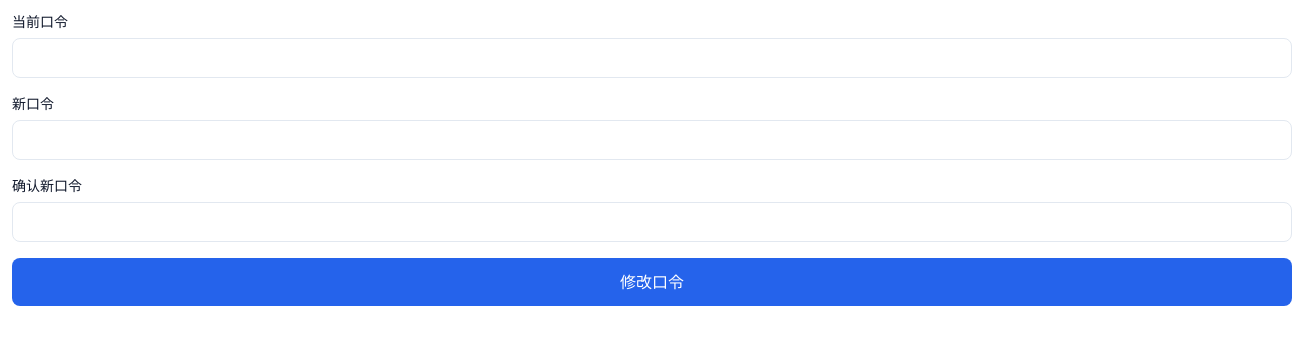
it: PasswordChangeForm validation › rejects a confirmation that does not match the new password
The width and height of the screenshot is (1304, 349).
Type "Local-Account-1" into the password field labelled "当前口令" at (652, 58), box [12,38,1292,78]
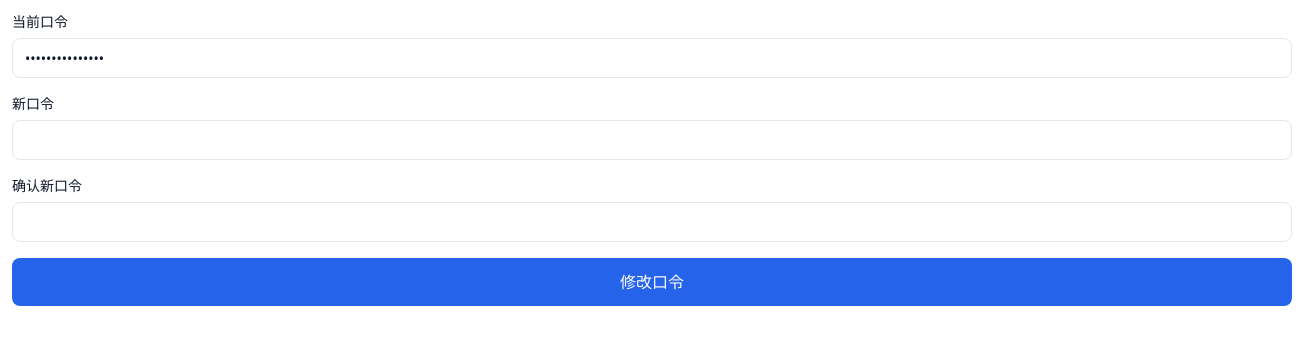
Type "Rotated-Account-2" into the password field labelled "新口令" at (652, 140), box [12,120,1292,160]
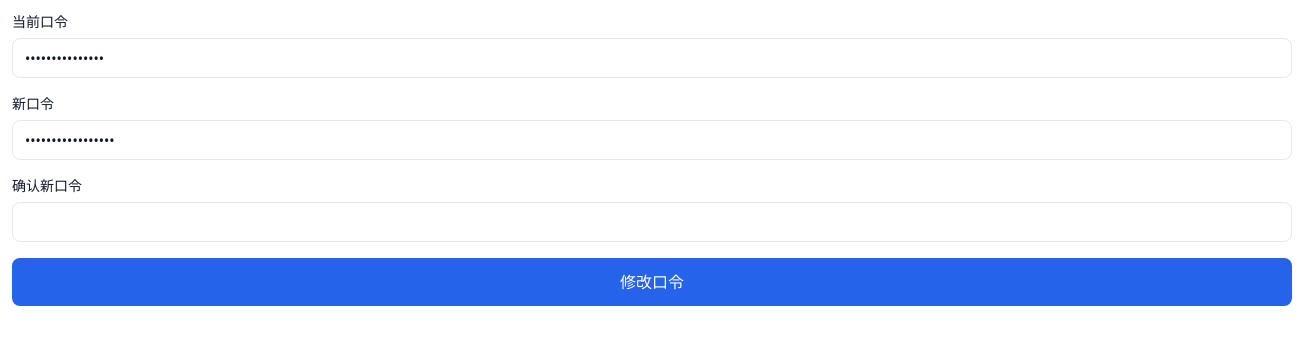
Type "Rotated-Account-3" into the password field labelled "确认新口令" at (652, 222), box [12,202,1292,242]
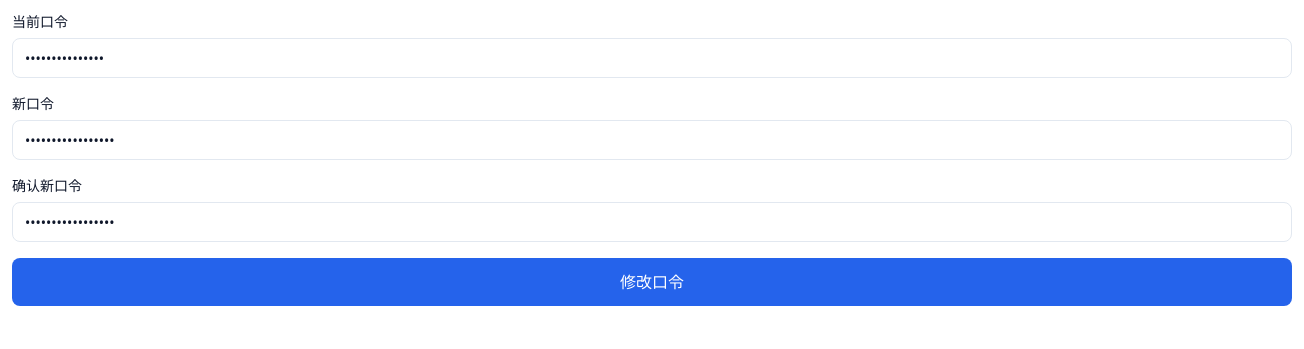
Click the button "修改口令" at (652, 282), box [12,258,1292,306]
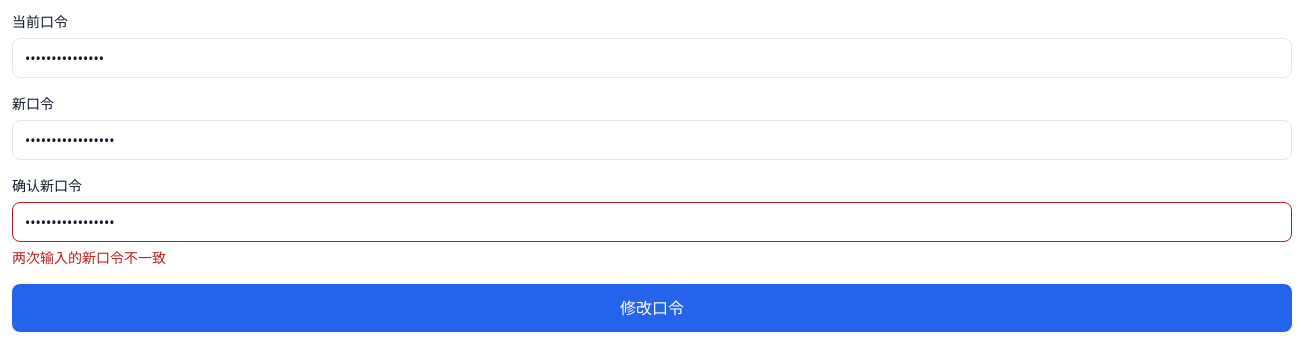
Expected: the text "两次输入的新口令不一致" is shown, [12,248,166,267]
